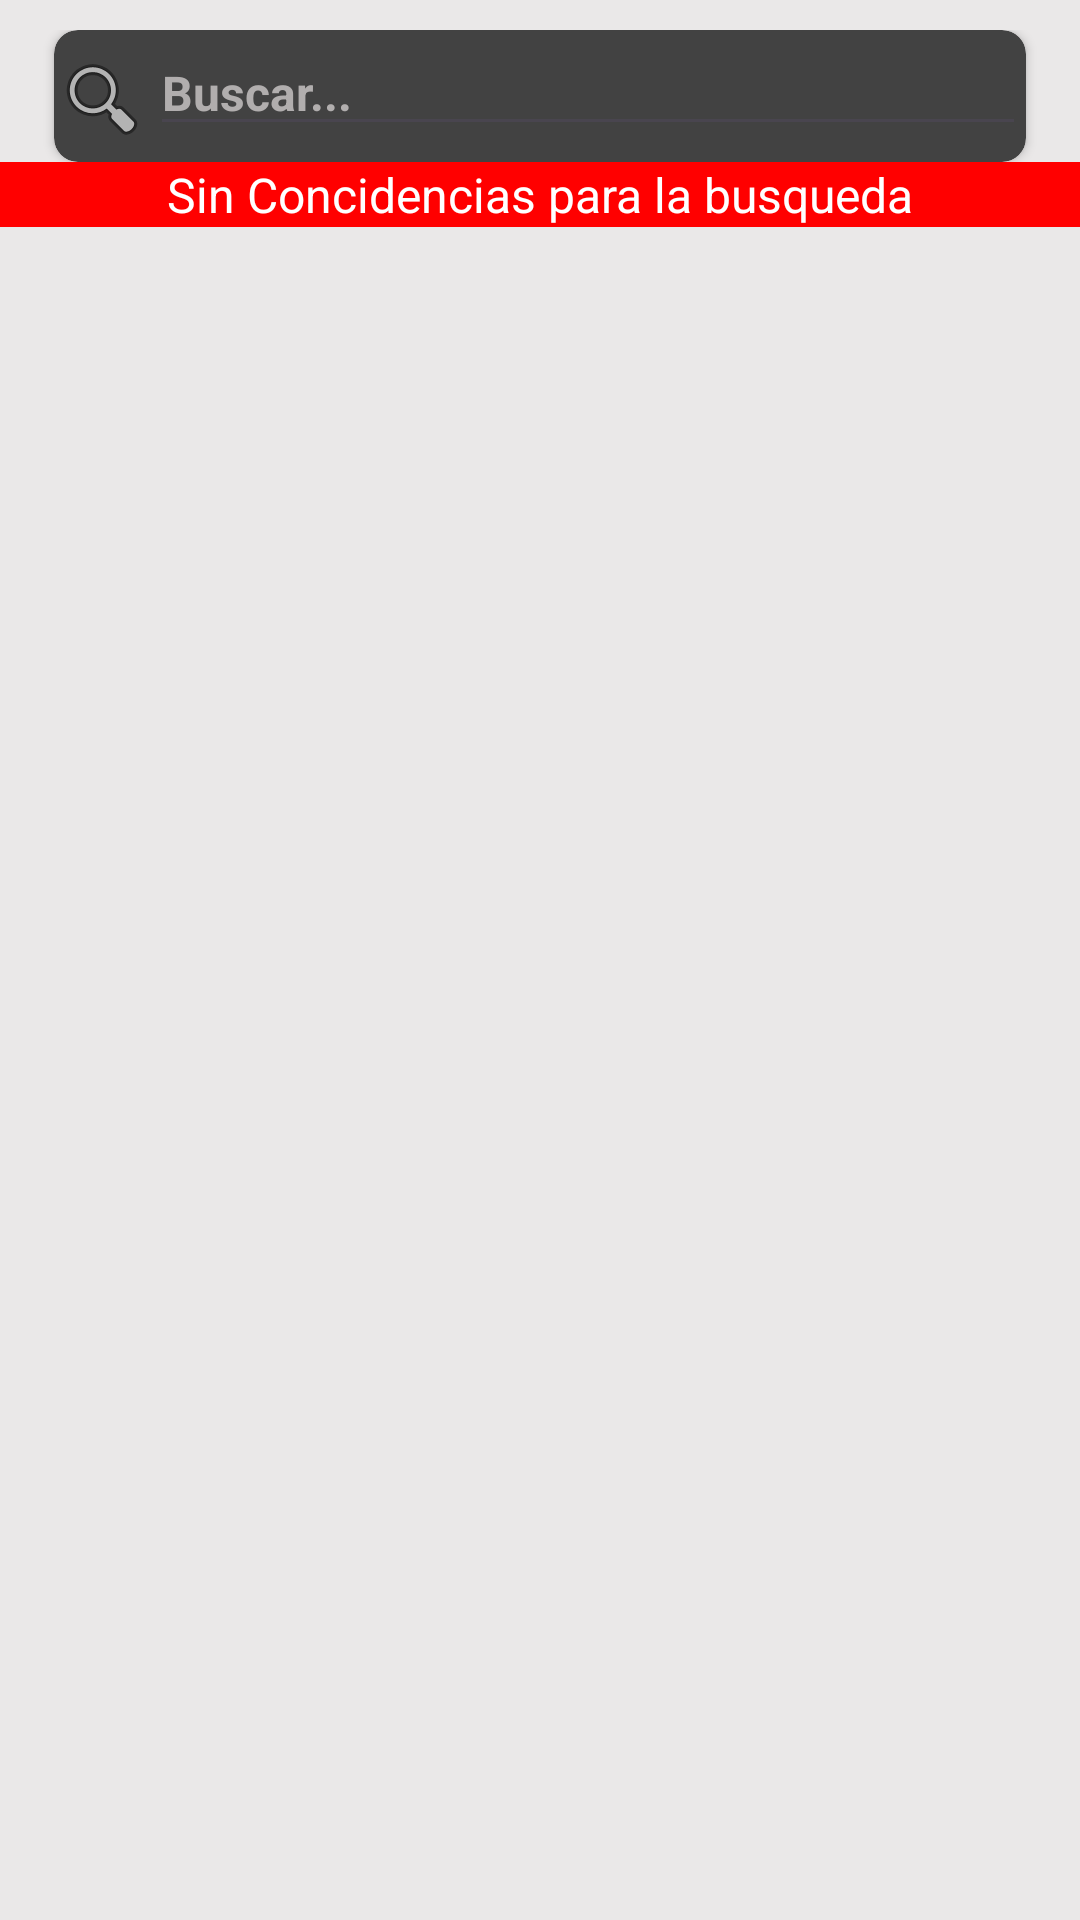

Named icons in this screenshot (1080px x 1920px) and their centers, (x=x, y=y):
search: (x=102, y=99)
